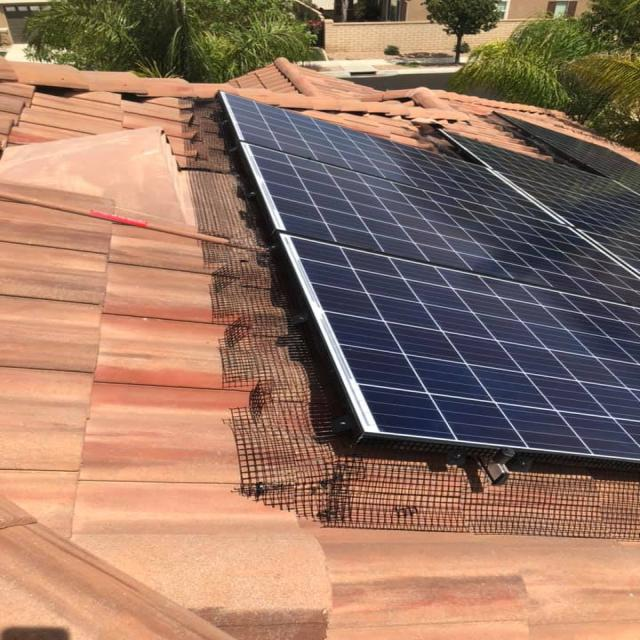clean-solar-panel: (187, 94, 638, 539)
